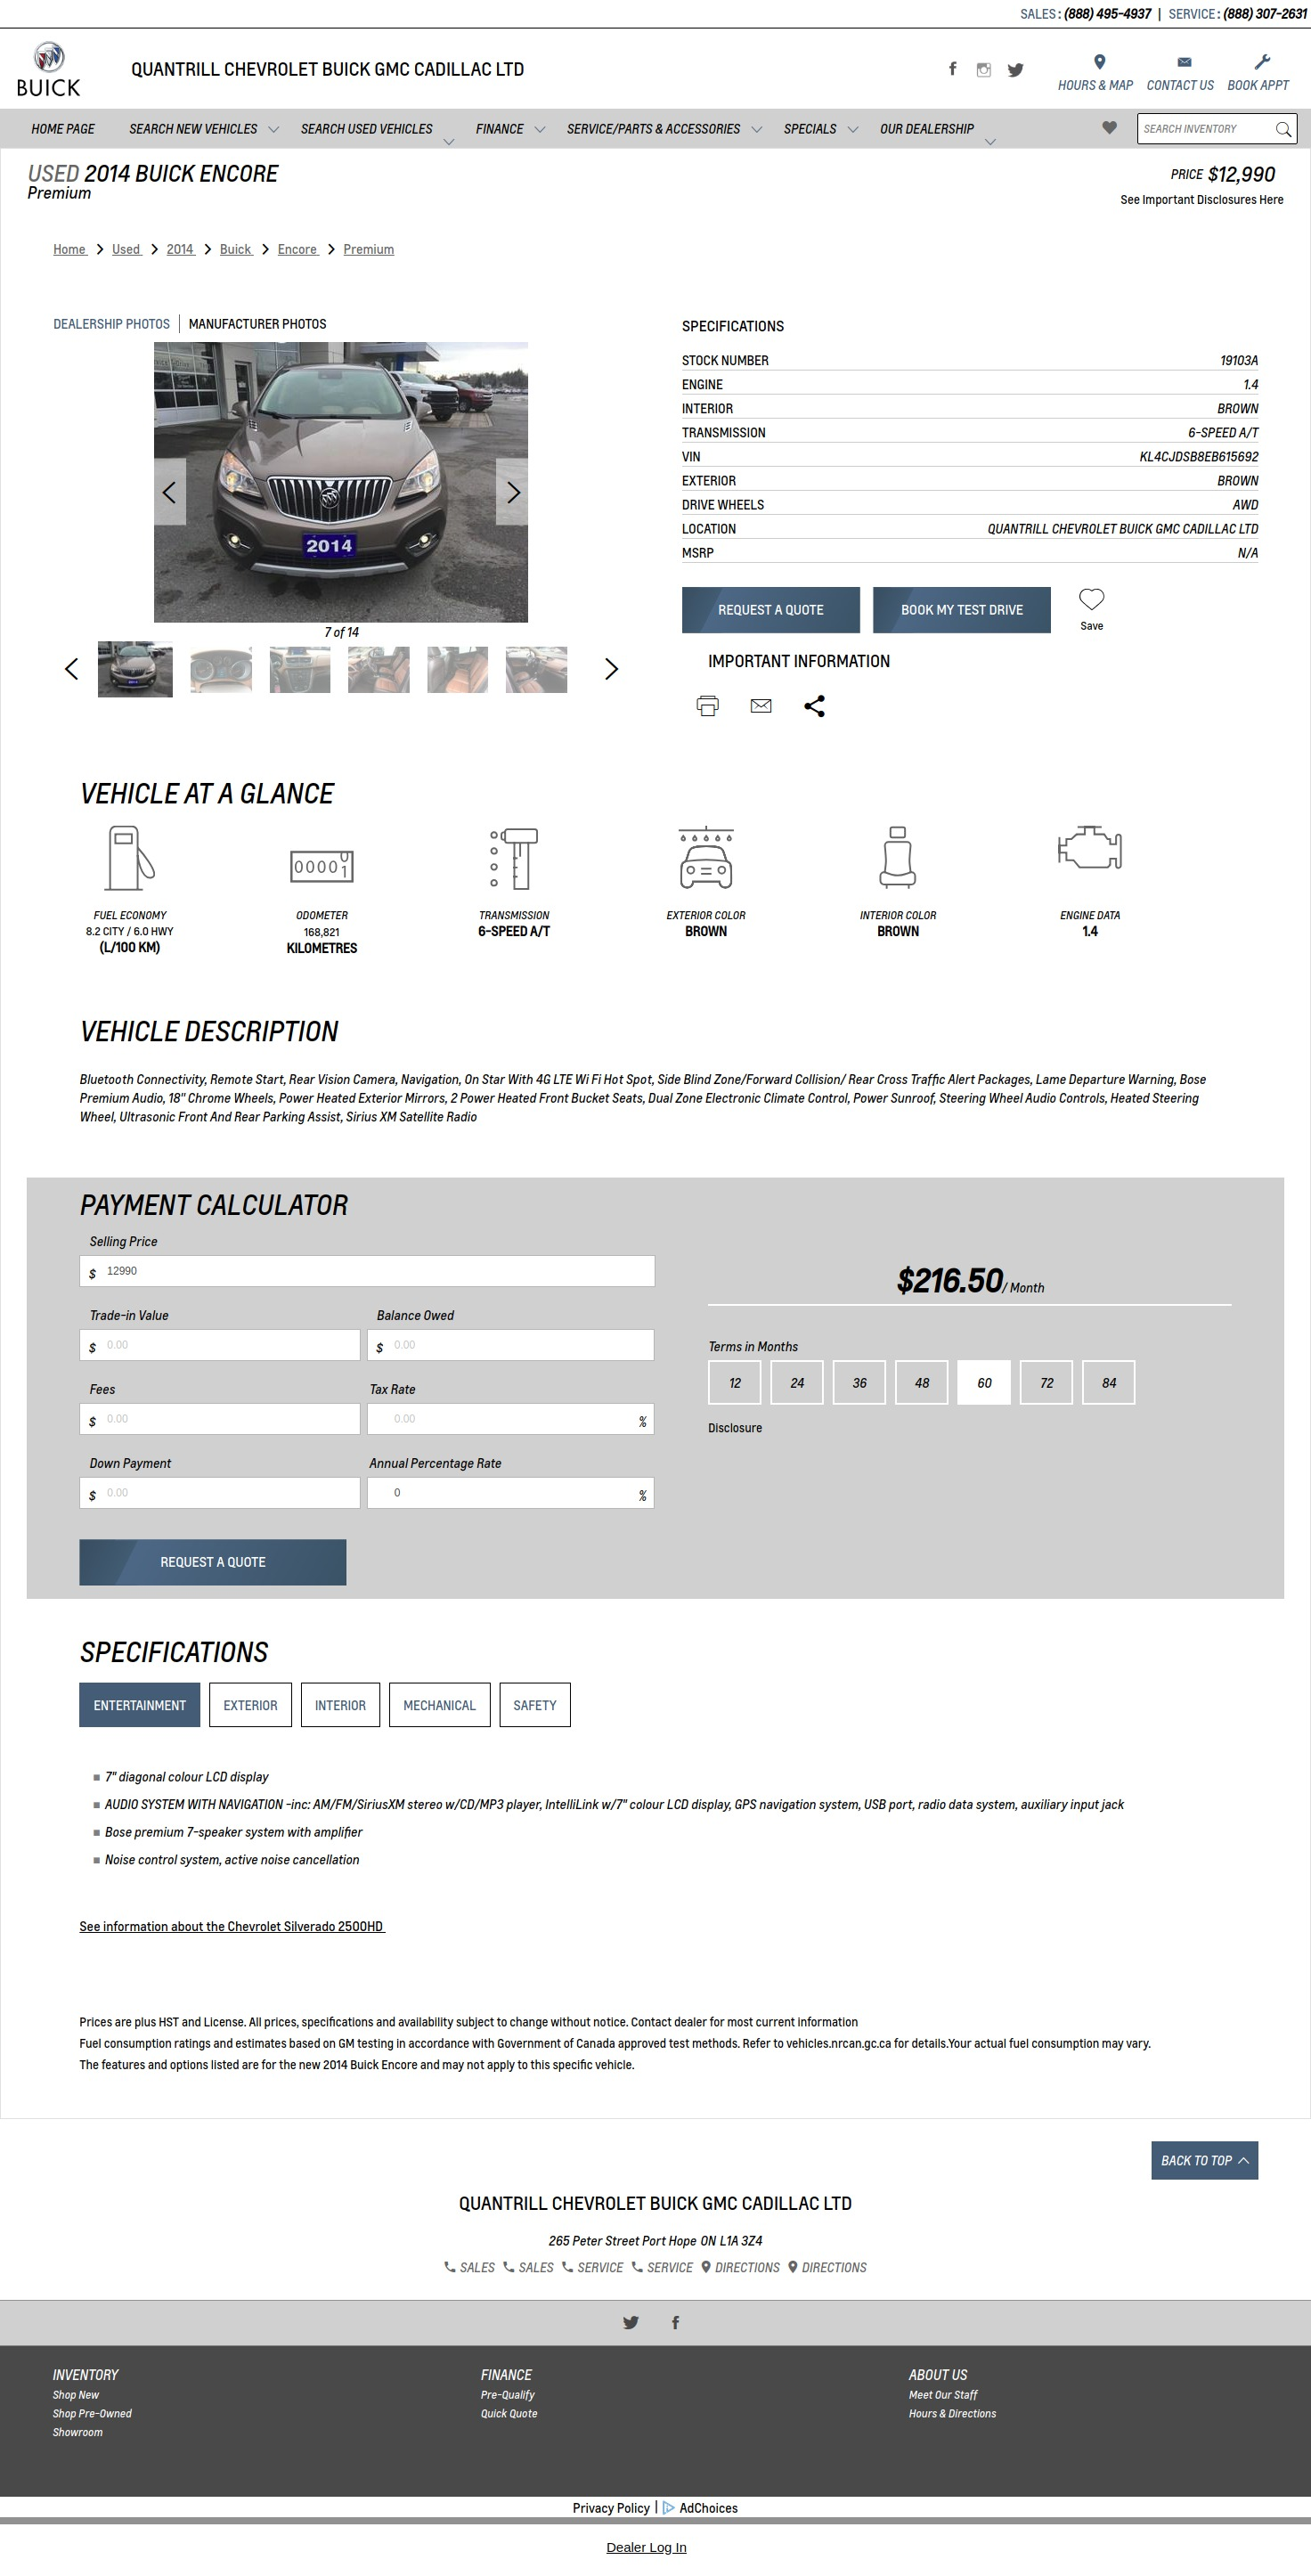car: (604, 659, 620, 682)
